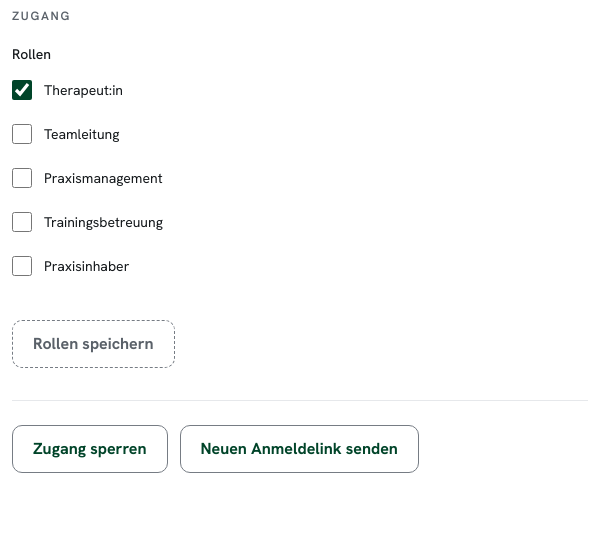
Scenario: StaffAccountSection - bestehender Zugang › bestätigt gespeicherte Rollen sichtbar (ORG-04)
The image size is (605, 549).
What coordinates should you click on to do the following:
click the checkbox labelled "Teamleitung"
I would click on:
 (22, 134)
Its box is [12, 124, 32, 144].
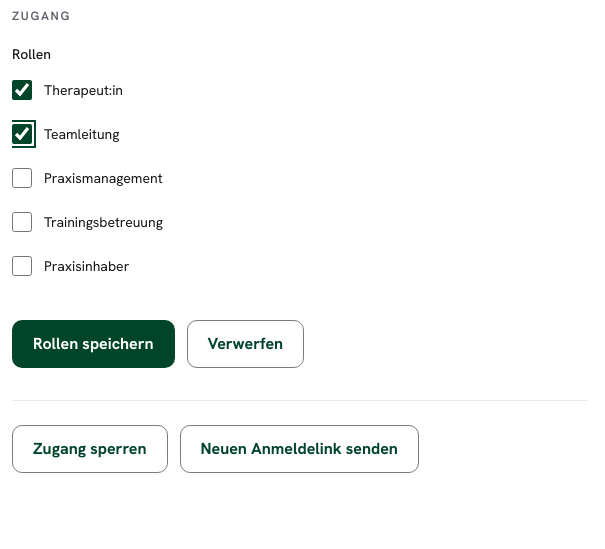
What coordinates should you click on to do the following:
click the button "Rollen speichern"
I would click on:
 (93, 344)
Its box is [12, 320, 174, 368].
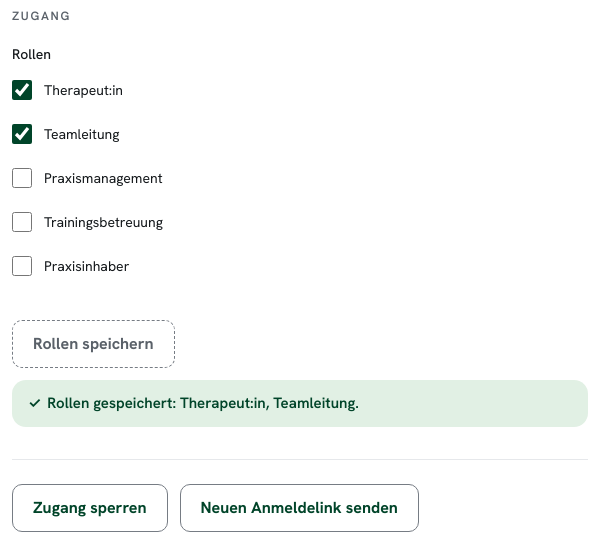
Now the button "Rollen speichern" is disabled, box [12, 320, 174, 368]
Now the button "Verwerfen" is gone
